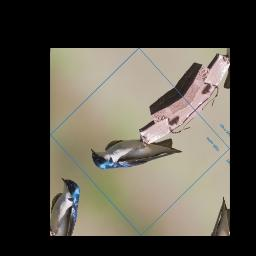Swallow: (85, 101, 185, 205)
